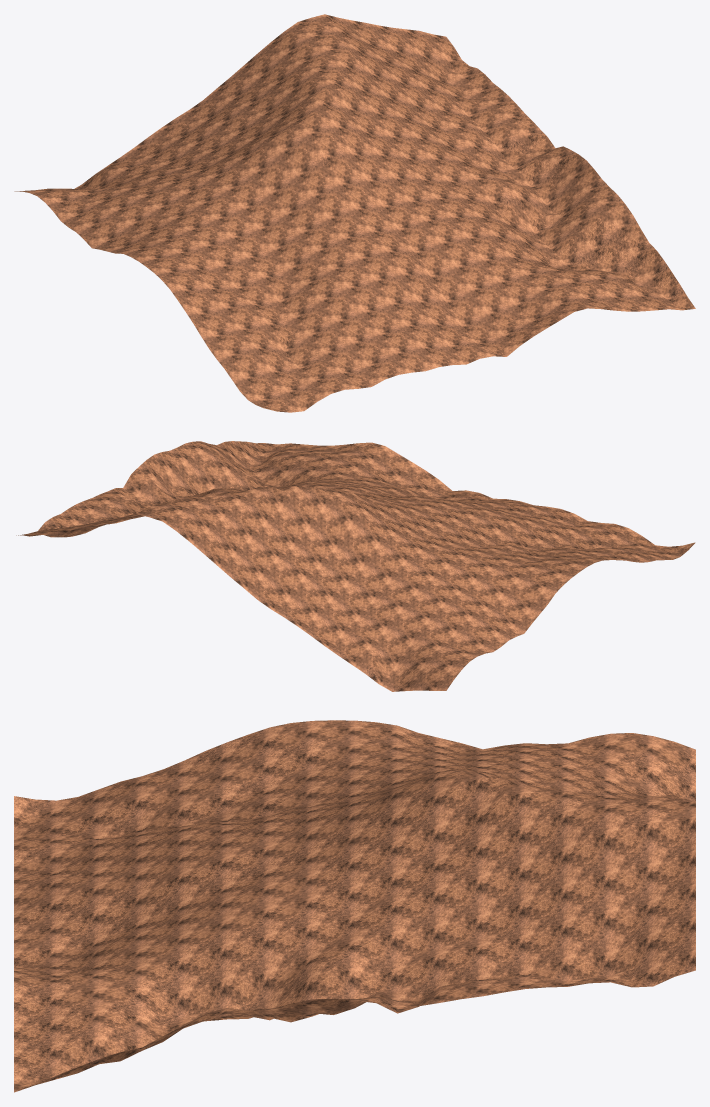
The model's file is terrain_05_02.dae.
The picture shows the model from 3 angles, top to bottom: view 1: azimuth 30°, elevation 25°; view 2: azimuth 150°, elevation 25°; view 3: azimuth 270°, elevation 25°; orthographic projection. The views are drawn at different scales.
Parts seen in each view (by area): view 1: terrain_05_02-node; view 2: terrain_05_02-node; view 3: terrain_05_02-node.
Part boxes in pixels (x1,y1,x2,y2): terrain_05_02-node: (14,14,695,412); terrain_05_02-node: (16,441,695,691); terrain_05_02-node: (14,720,695,1092).
Size of the model in its own units: 128 by 128 by 41.95.
1 material, 1 textured.
